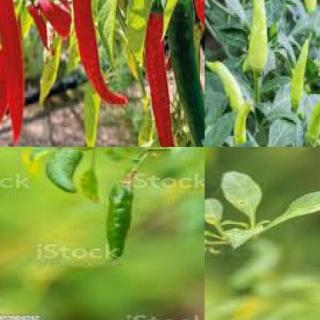green_chilli: (164, 0, 203, 146), (102, 180, 139, 260), (205, 59, 243, 112), (286, 38, 312, 114), (41, 147, 80, 197), (191, 0, 204, 135), (247, 0, 271, 72), (232, 100, 256, 144), (303, 0, 318, 14)
